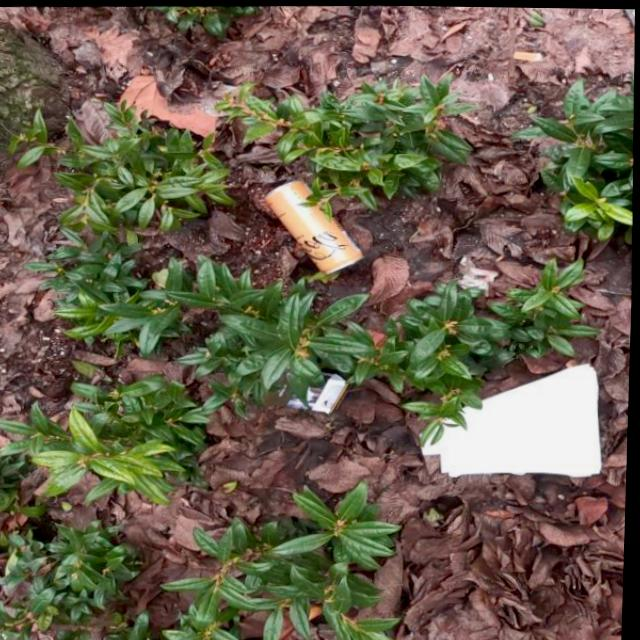Can-Metal: (260, 174, 368, 275)
Paper: (416, 356, 607, 479), (261, 366, 356, 414)
